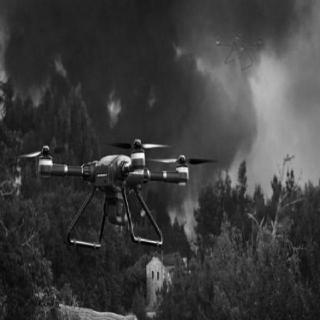Smoke: (6, 9, 314, 135)
